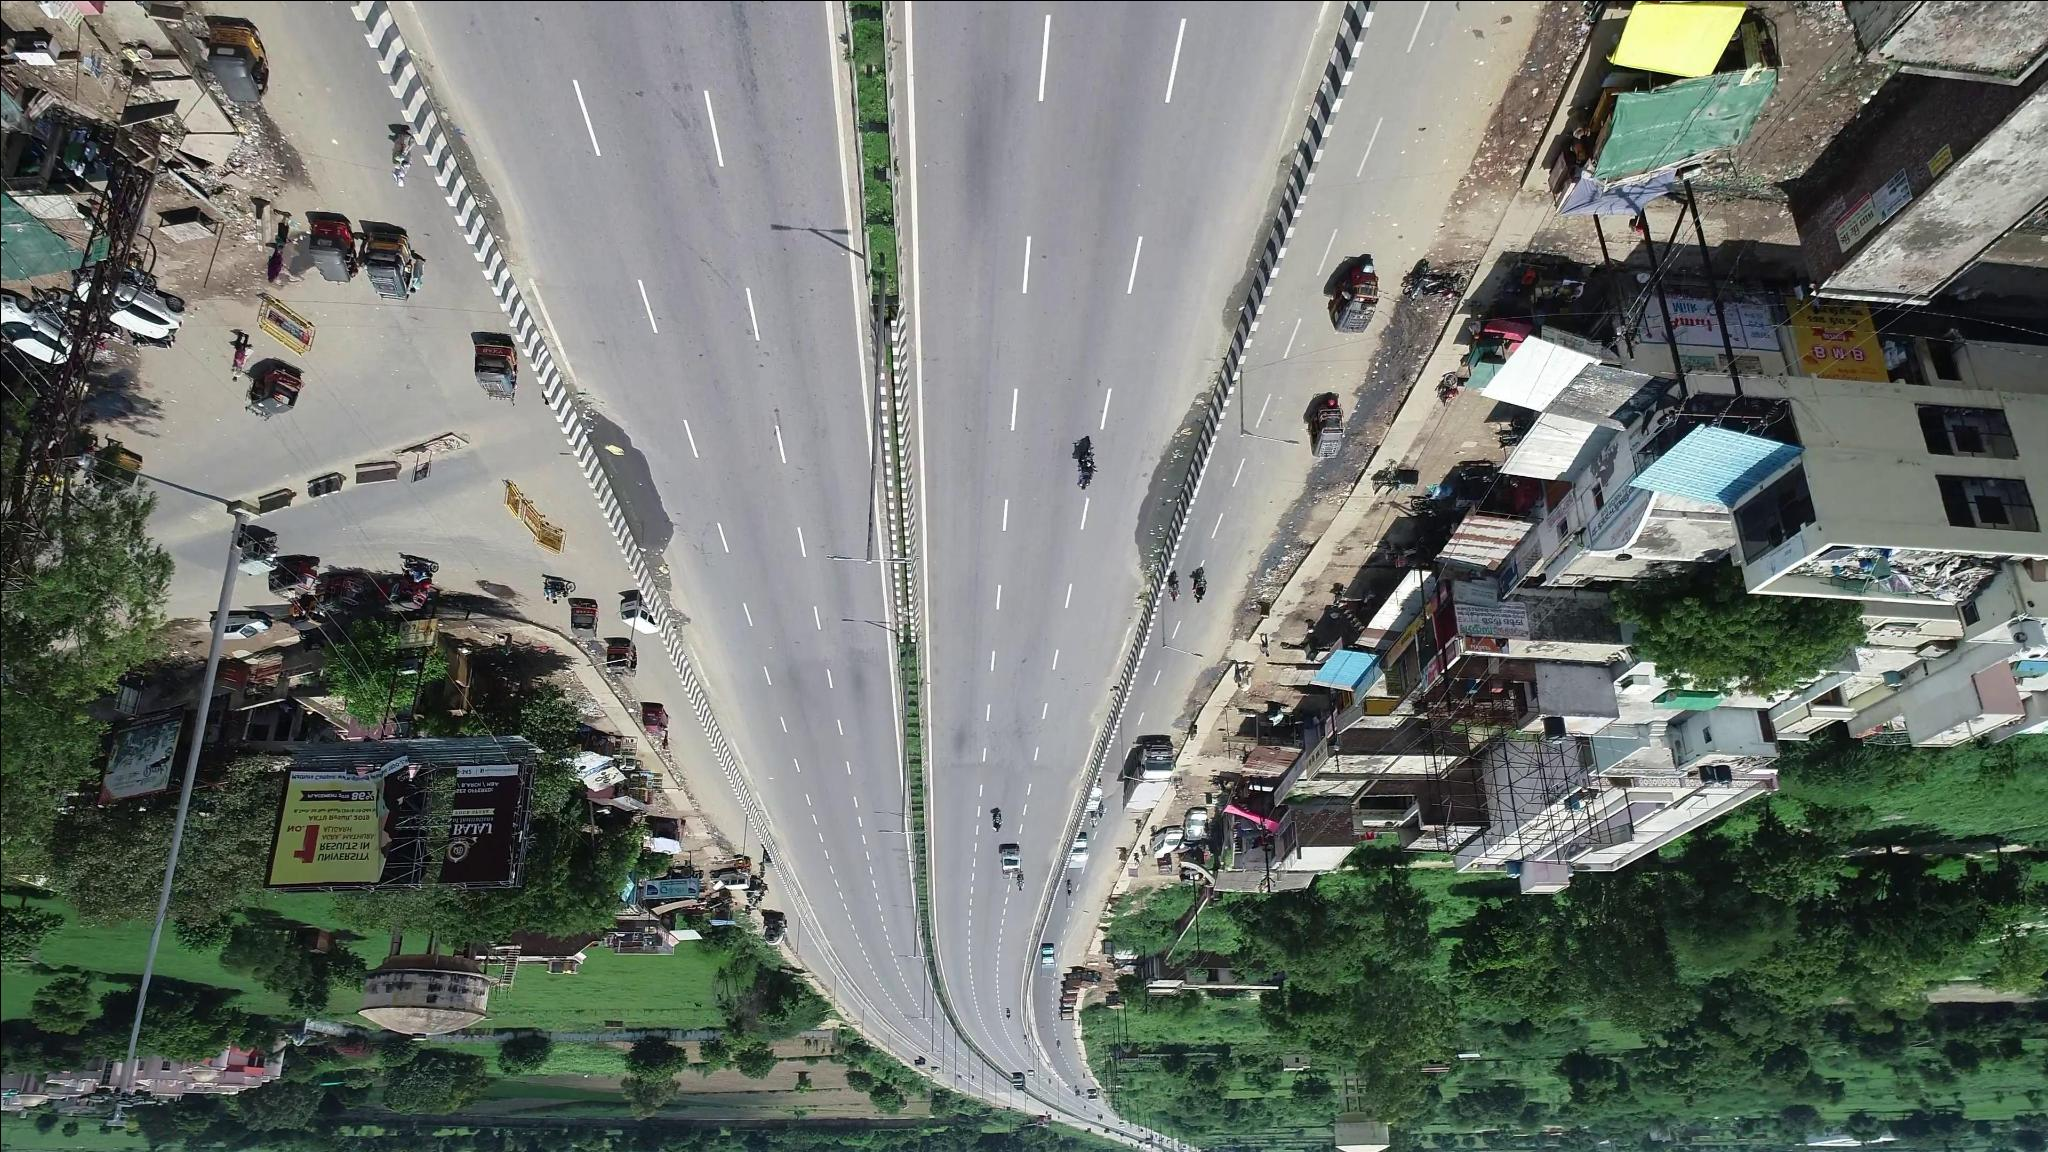Waterlogging: (592, 407, 664, 542)
